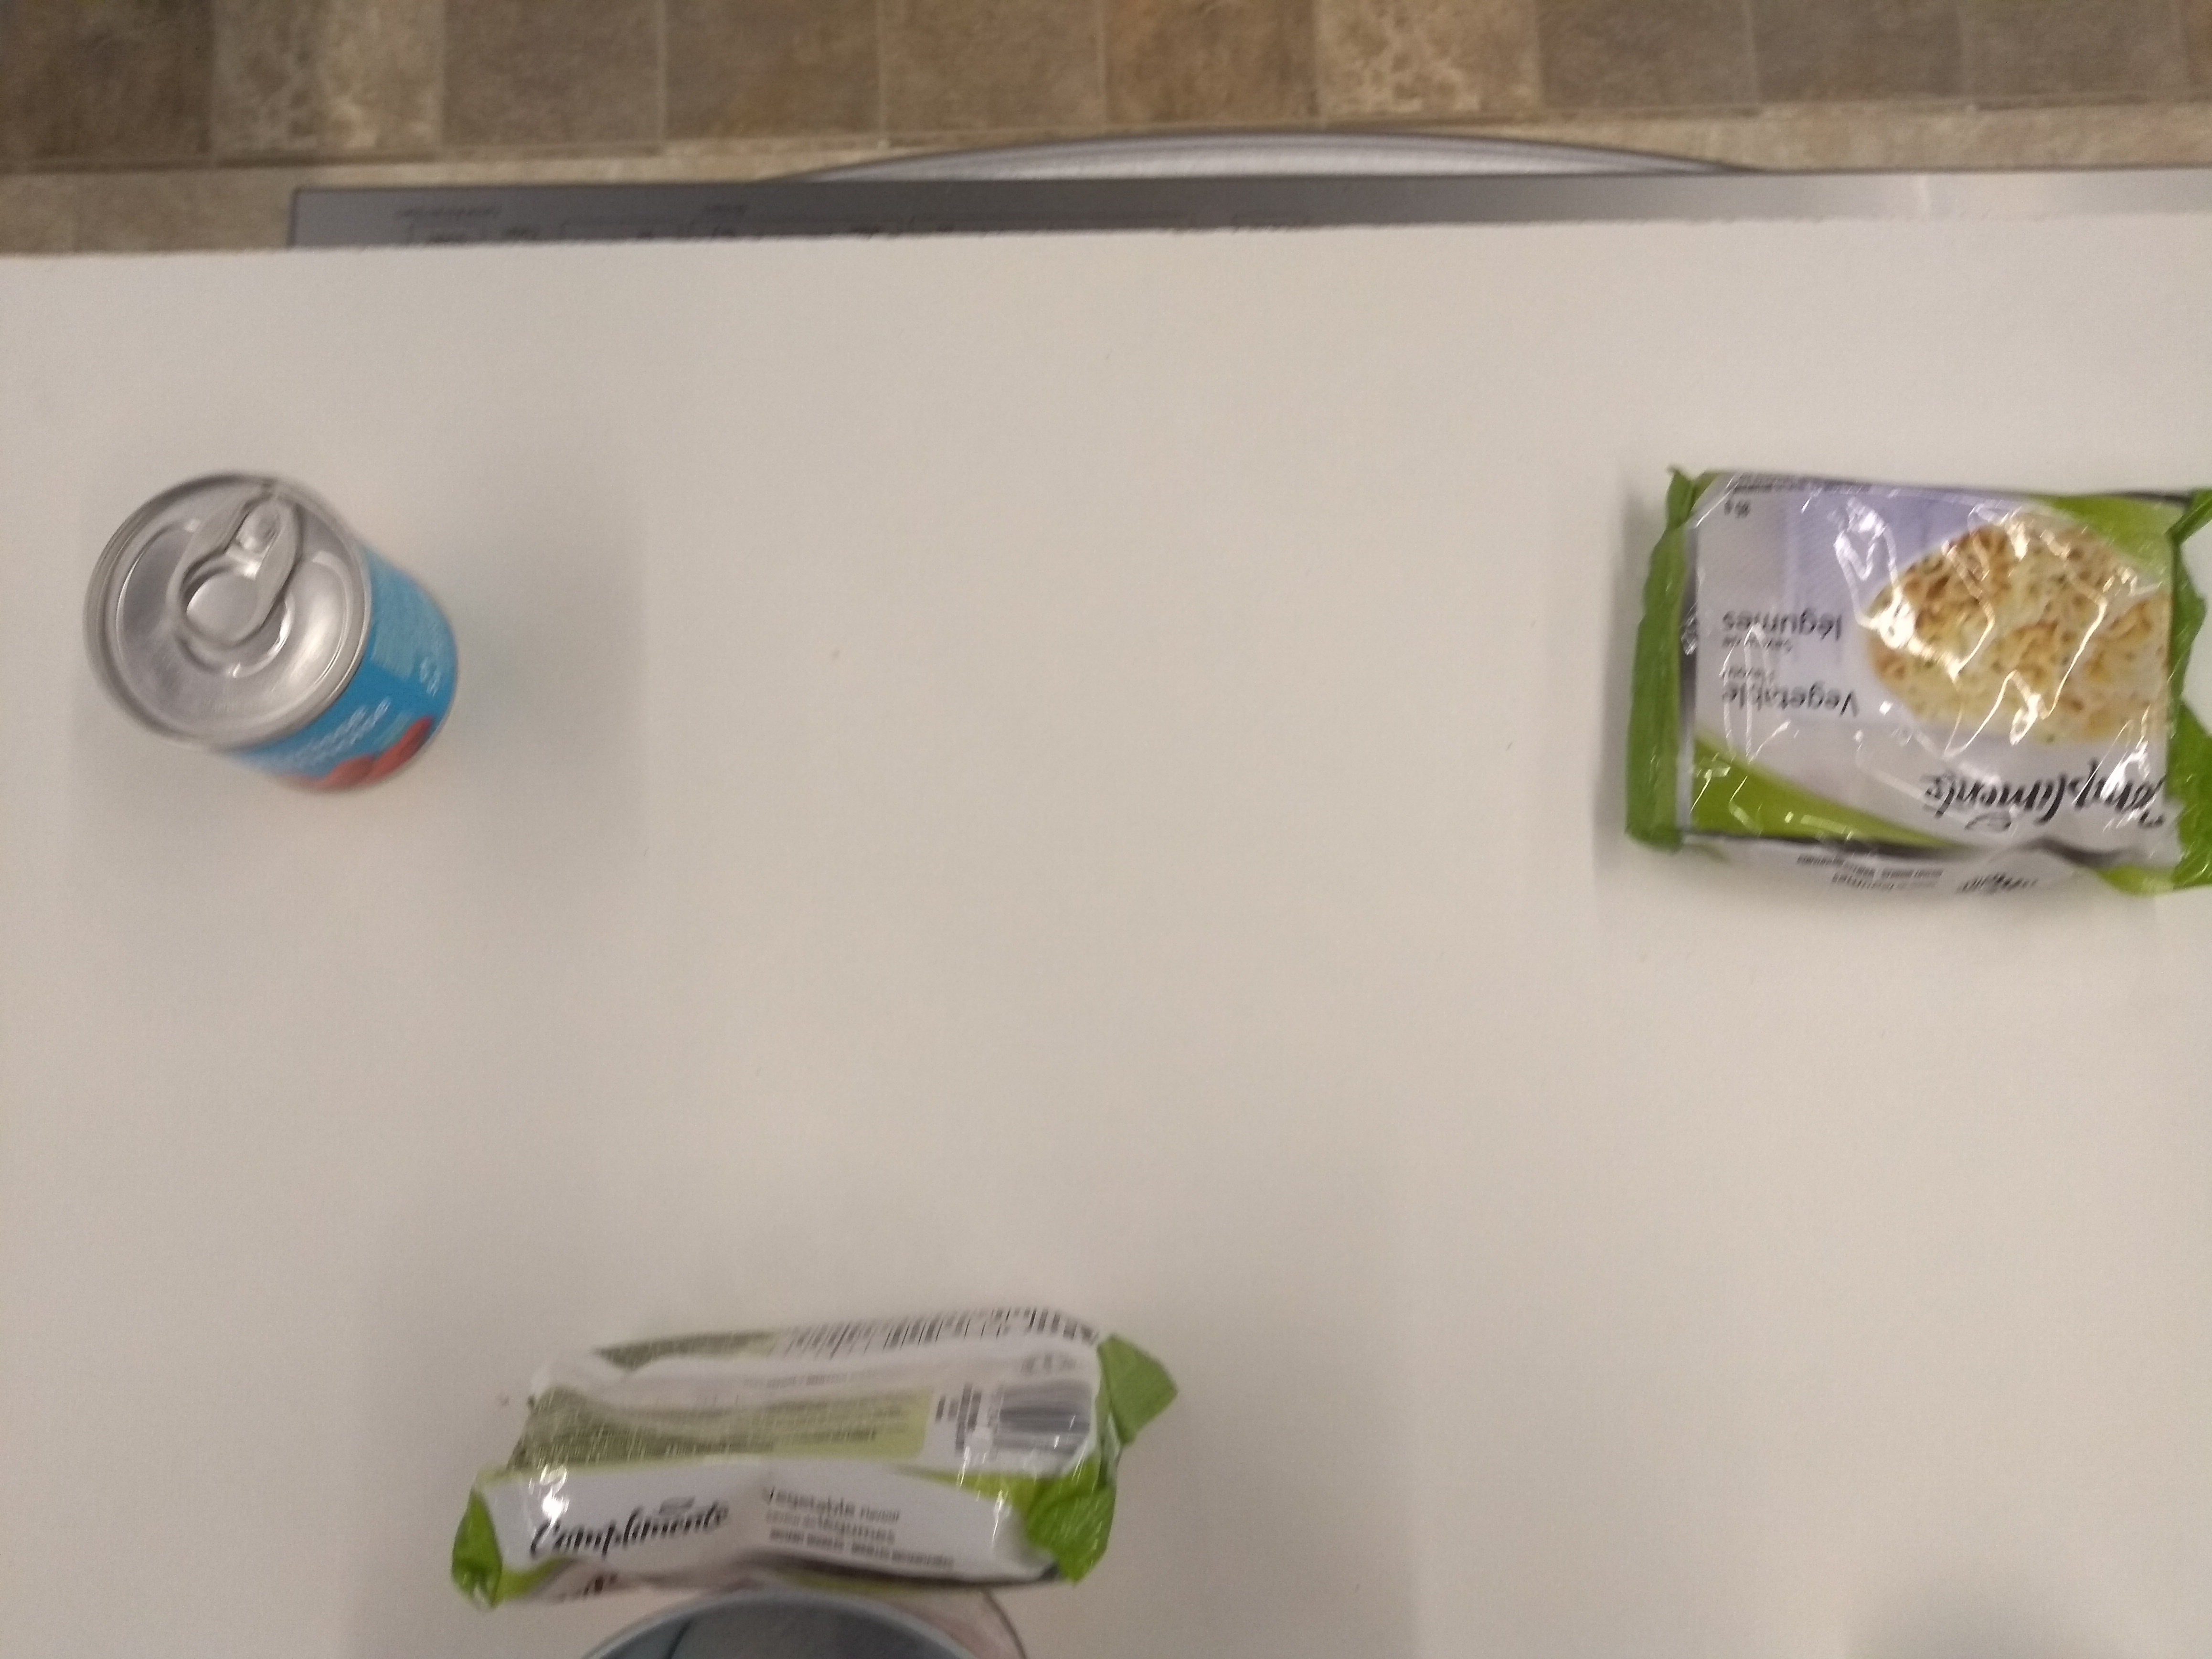noodles: (1611, 457, 2212, 904), (434, 1297, 1184, 1608)
sausages: (75, 460, 465, 809)
